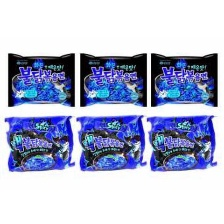snack: (141, 111, 221, 174), (0, 110, 77, 175), (2, 46, 79, 110), (145, 47, 223, 110), (72, 111, 150, 174), (74, 45, 149, 110)
